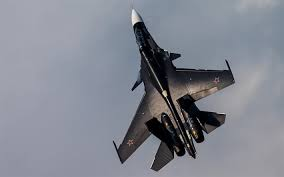maybay_muctieu: (108, 6, 234, 165)
